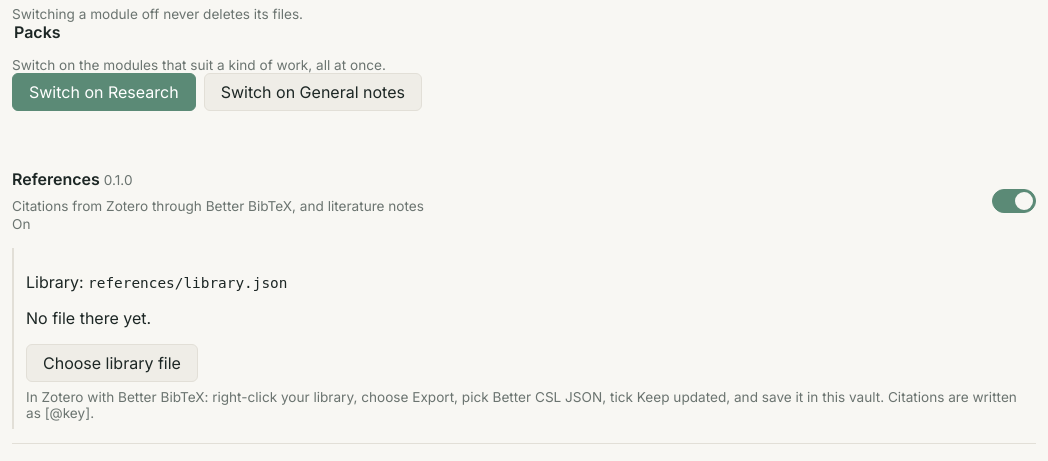
Test case: References module › can read a library chosen elsewhere in the vault, and remembers it
Click the button "Choose library file": click(112, 363) top-left (26, 344), bottom-right (198, 382)
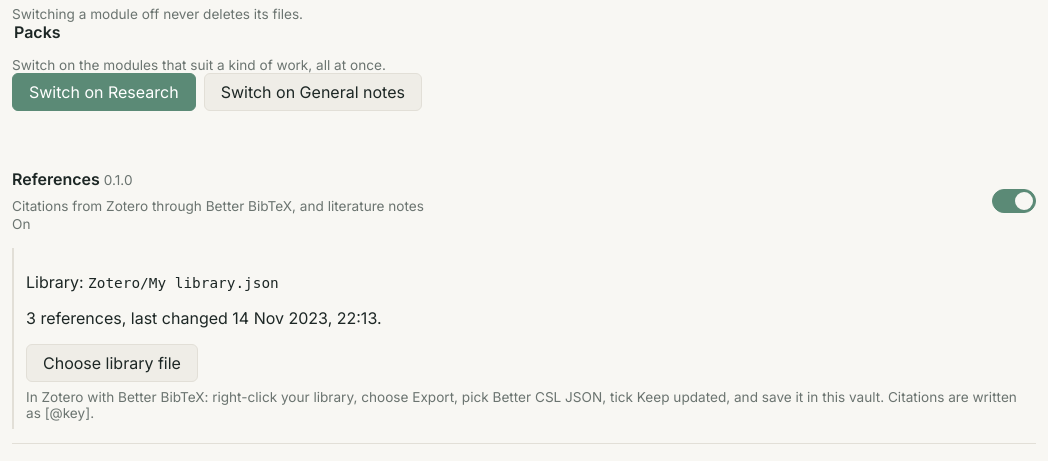
Now the message shows "3 references, last changed", box top-left (26, 308), bottom-right (382, 328)
